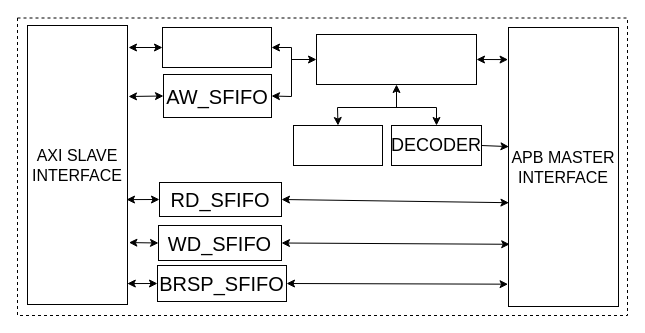
Some shapes in this 645 by 333 pixel diagram are drawn without their labels. Each missing label, with the centre of its shape:
AR_SFIFO: point (217, 47)
ARBITER: point (396, 59)
COUNTER: point (337, 145)
